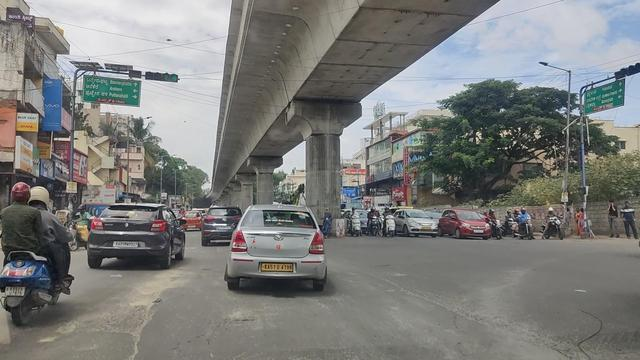LMV: (233, 202, 327, 292), (11, 180, 65, 326), (88, 196, 184, 270)
RoadDamages: (73, 294, 158, 356), (205, 310, 266, 333), (430, 291, 476, 321), (380, 275, 419, 297)
